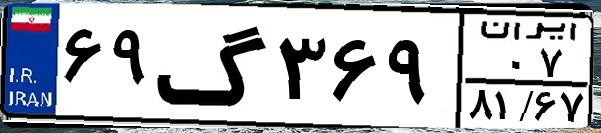0: (508, 27, 537, 80)
1: (495, 70, 520, 125)
3: (270, 28, 330, 110)
6: (330, 28, 385, 110), (57, 26, 110, 100), (535, 70, 560, 125)
7: (560, 70, 590, 125), (537, 27, 568, 80)
8: (470, 70, 495, 125)
9: (385, 28, 445, 110), (110, 28, 156, 98)
گ: (156, 12, 270, 120)
